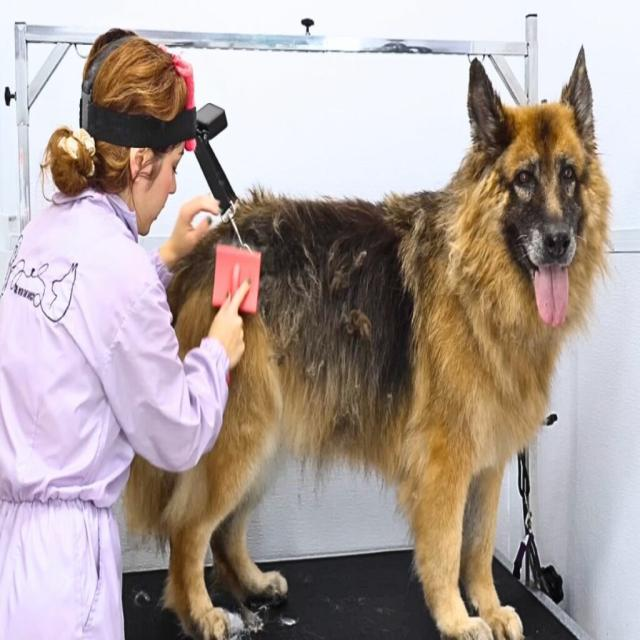GERMAN_SHEPHERD: (126, 39, 619, 640)
